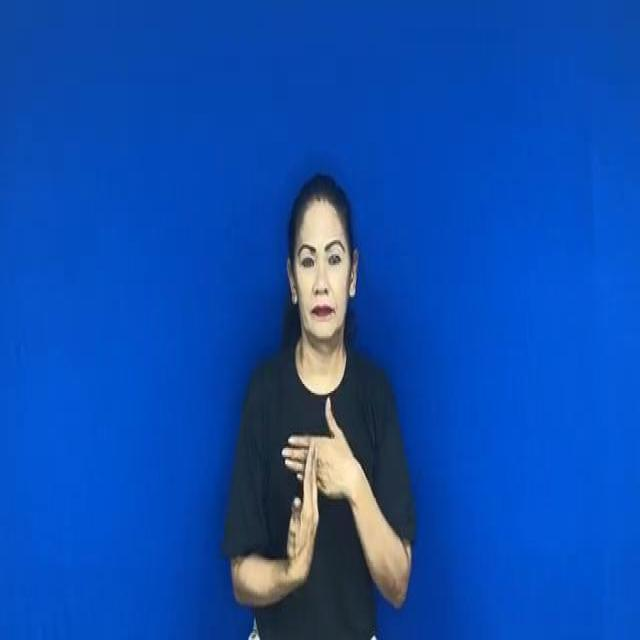bread: (278, 393, 362, 591)
